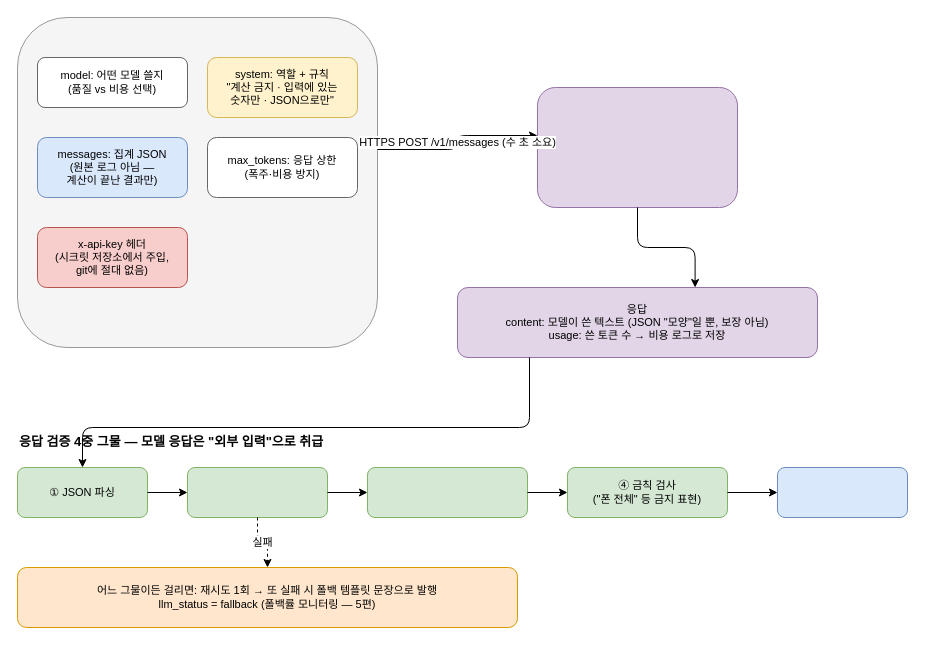
The diagram is 925 pixels wide and 645 high, and some of its shapes have lost their labels. The box of each missing label's shape, as (x1, y1, x2, y2) in pixels:
Claude API (Anthropic 서버 — 모델은 저쪽에 있다. 우리는 GPU·모델 파일· ML 지식 필요 없음): (536, 86, 738, 208)
② 스키마 검증 (필드·개수·길이): (186, 466, 328, 518)
③ 숫자 대조 (입력에 없는 숫자 = 실패): (366, 466, 528, 518)
우리 서버 — LLM 클라이언트: (16, 16, 378, 348)
통과 → 저장 llm_status = ok: (776, 466, 908, 518)
